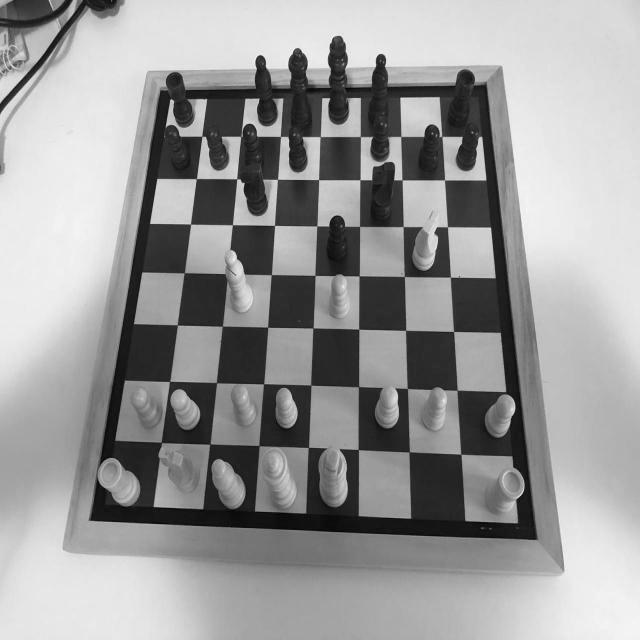chess-table-corners: (519, 524, 548, 550), (81, 504, 100, 532), (152, 78, 168, 99), (479, 73, 491, 94)
